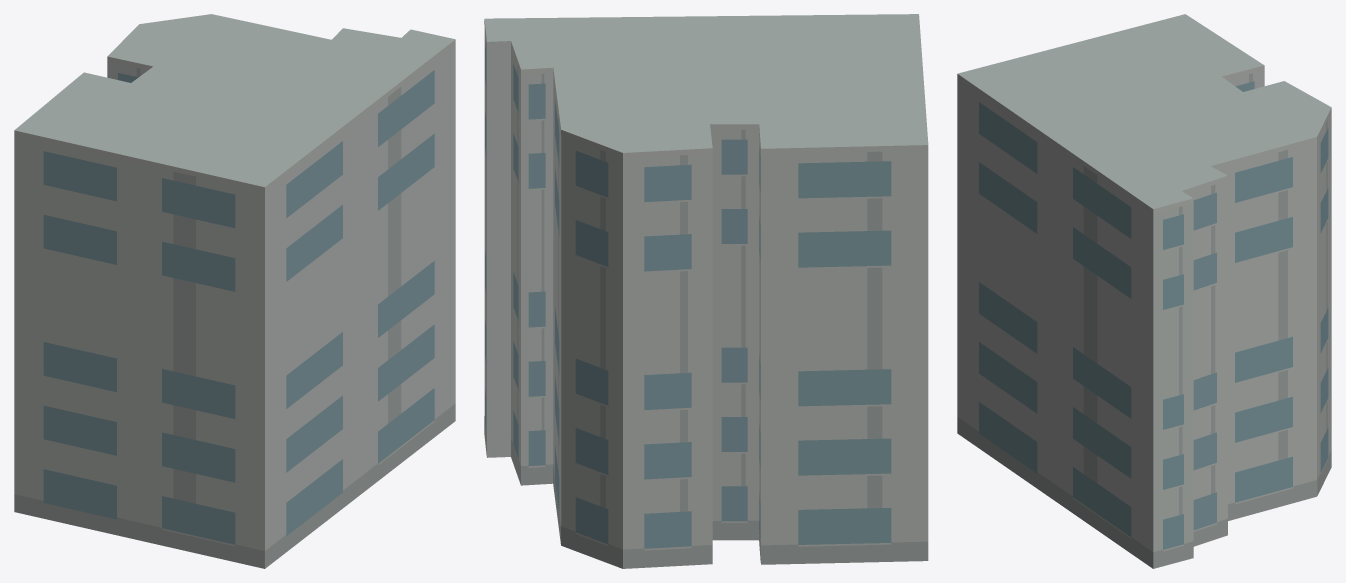
The model's file is survey-upis-32800952.glb.
3 views of the same model, side by side, from view 1: azimuth 30°, elevation 25°; view 2: azimuth 150°, elevation 25°; view 3: azimuth 270°, elevation 25° (orthographic). The views are drawn at different scales.
Parts seen in each view (by area): view 1: survey-upis-32800952.tmp; view 2: survey-upis-32800952.tmp; view 3: survey-upis-32800952.tmp.
Part boxes in pixels (bbox=[...]): survey-upis-32800952.tmp: bbox=[14, 14, 455, 568]; survey-upis-32800952.tmp: bbox=[484, 14, 928, 568]; survey-upis-32800952.tmp: bbox=[957, 14, 1331, 568].
Size of the model in its own units: 21.3 by 18.3 by 17.27.
